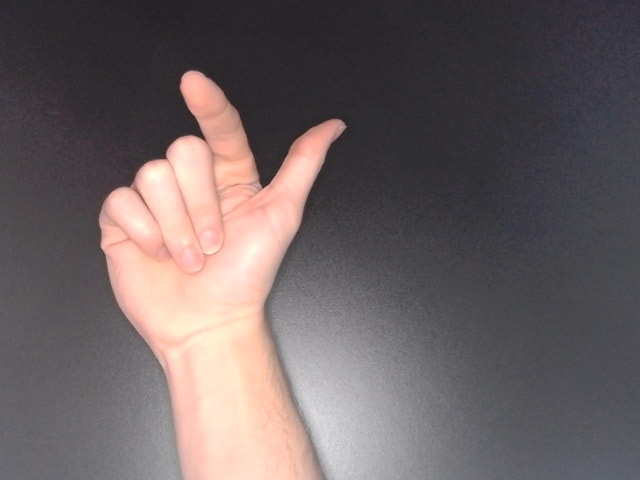t: (89, 66, 353, 367)
